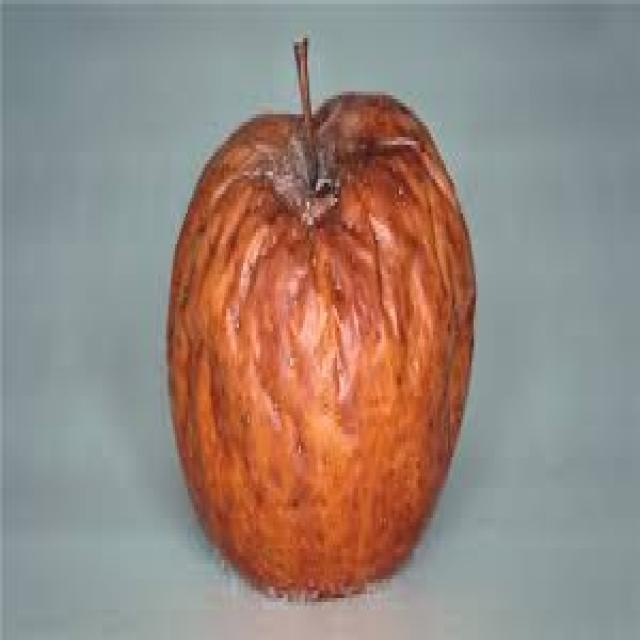Apple: (177, 98, 458, 592)
